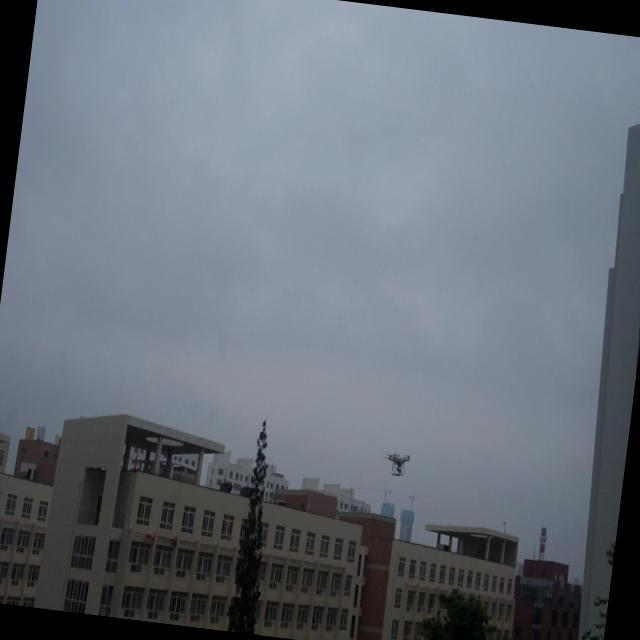drone: (382, 445, 414, 483)
